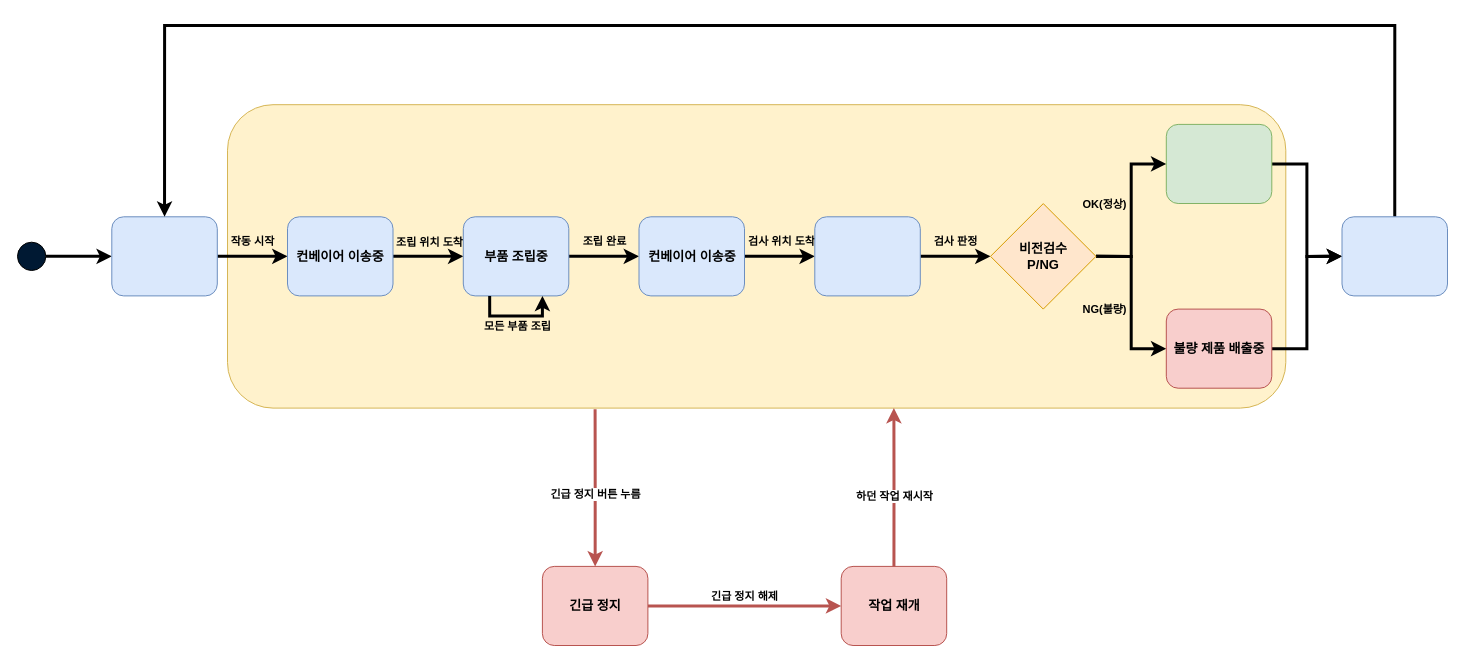
The diagram is 1465 pixels wide and 663 high, and some of its shapes have lost their labels. Here are the shapes that lost their labels. From the top down, the centre of each, then its label:
point 1218,163: 정상 제품 배출중
point 164,256: 대기
point 867,256: 비전 검사중
point 1394,256: 작업 로그 기록
